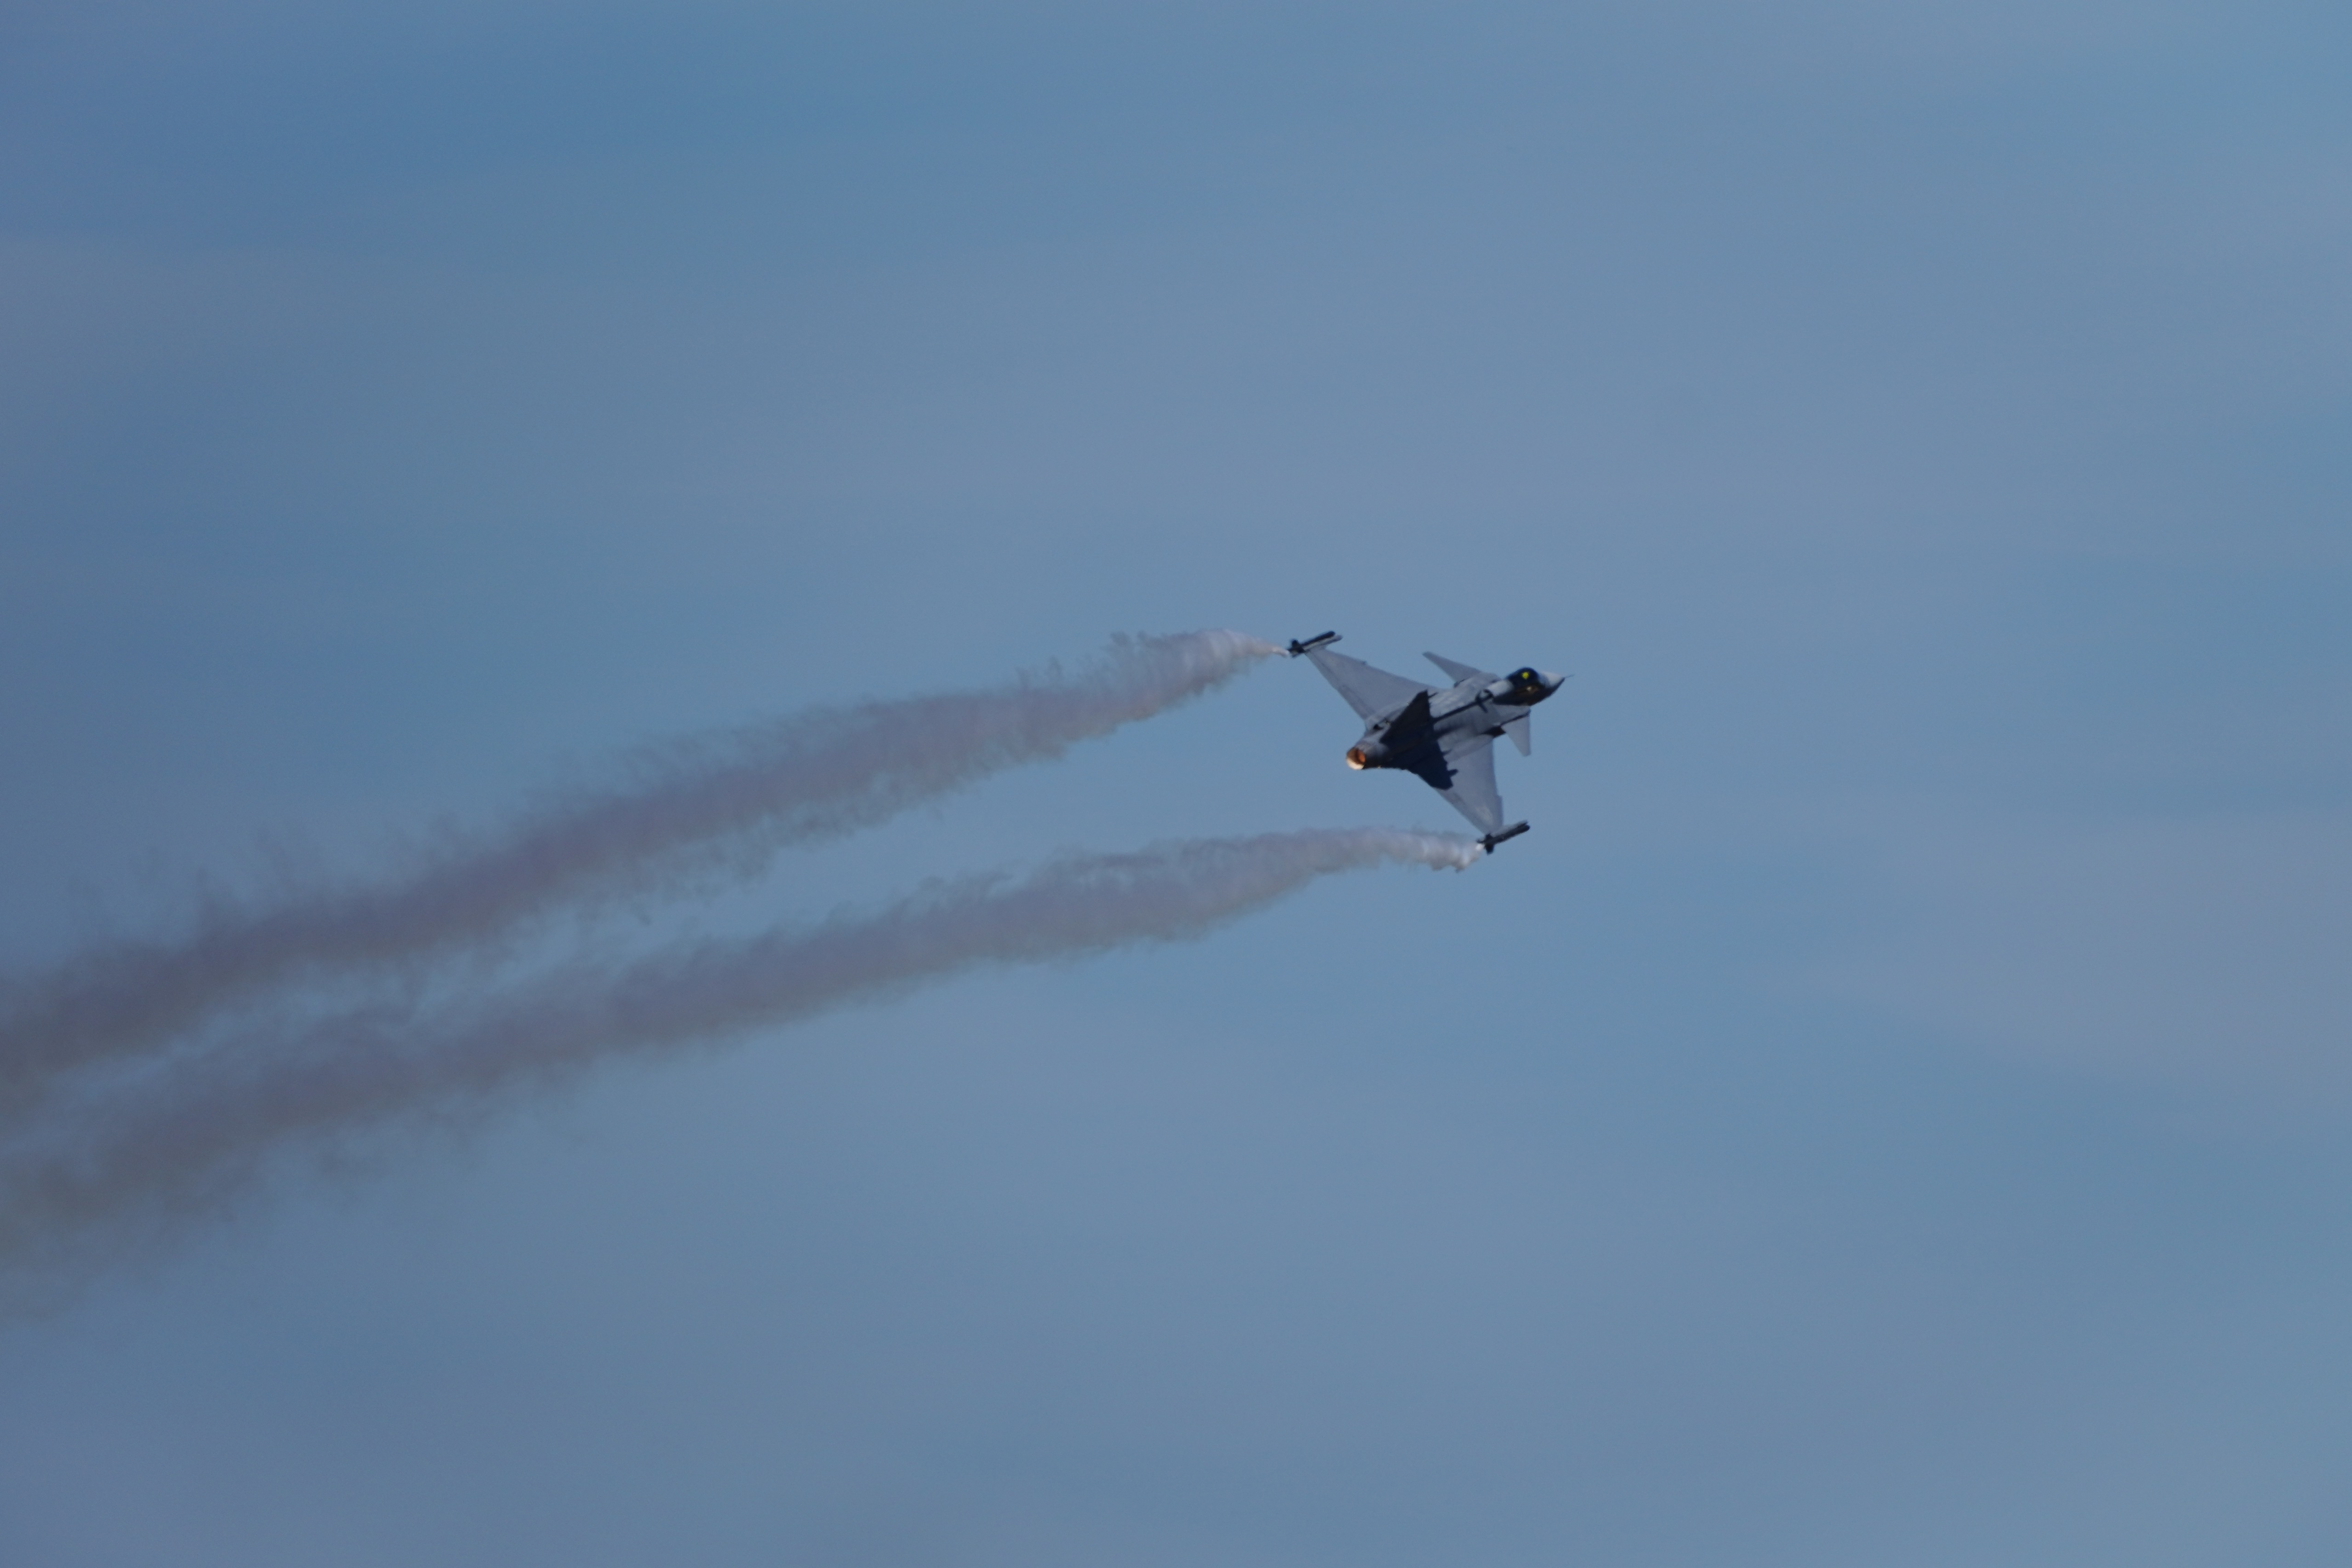JAS39: (1284, 630, 1575, 856)
